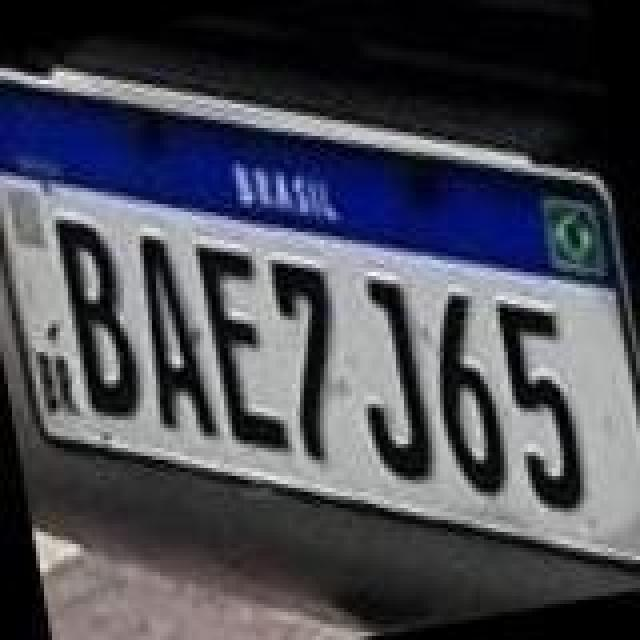5: (496, 288, 592, 520)
6: (414, 282, 514, 502)
7: (264, 246, 360, 466)
A: (128, 224, 224, 448)
B: (52, 206, 148, 426)
E: (190, 228, 290, 460)
J: (340, 264, 444, 488)
